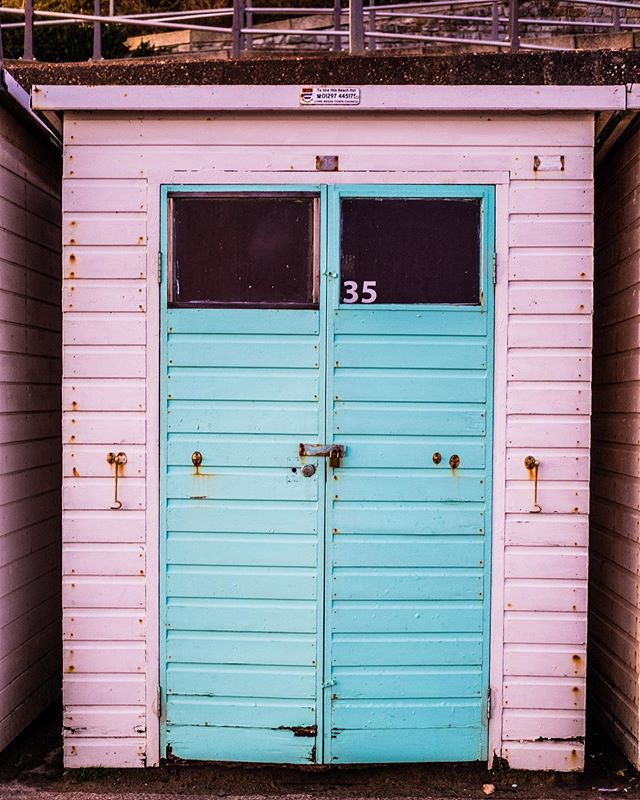door: (145, 178, 504, 769)
